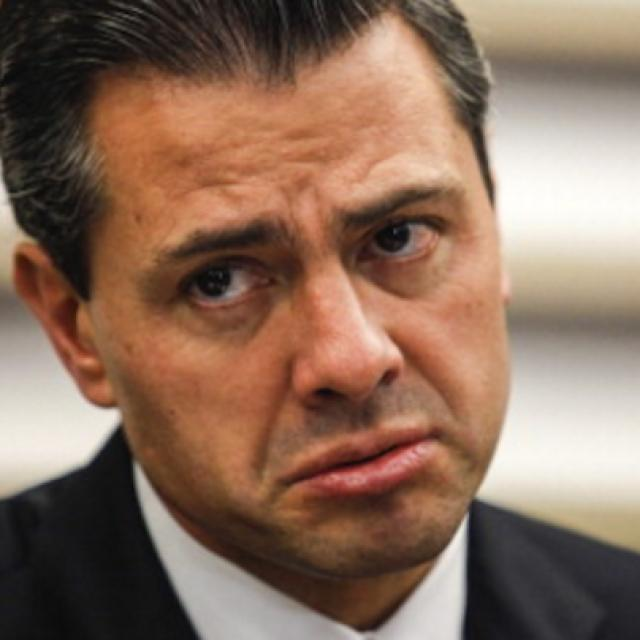Depress: (89, 11, 513, 580)
